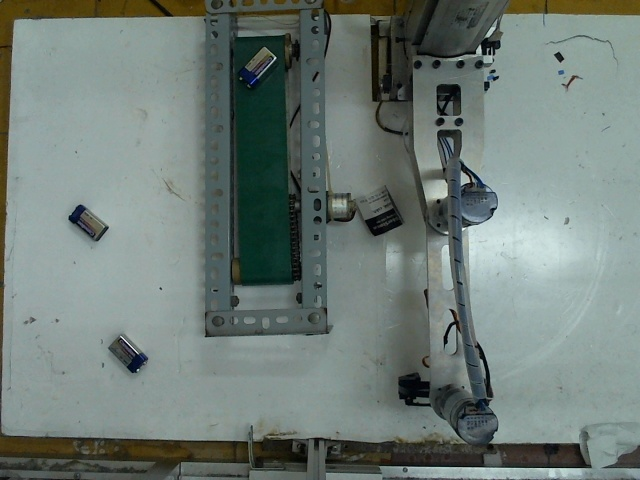battery: (66, 207, 115, 246), (103, 333, 146, 376), (242, 46, 280, 88)
